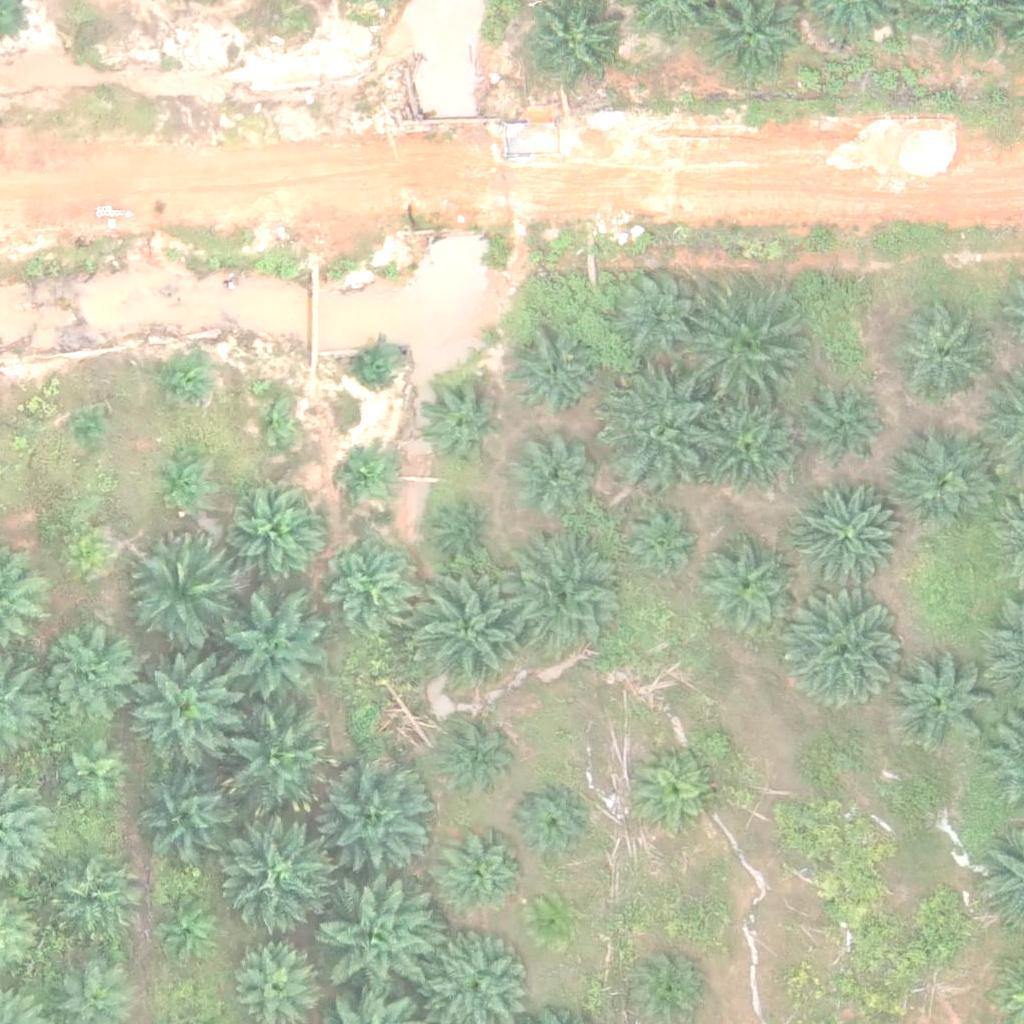Kelapa_Sawit: (783, 596, 896, 710), (509, 545, 622, 659), (414, 568, 527, 681), (317, 884, 430, 997), (213, 592, 326, 705), (226, 825, 339, 938), (122, 532, 235, 645), (127, 664, 240, 777), (315, 758, 427, 872), (794, 482, 906, 595), (691, 295, 803, 408), (601, 374, 713, 487), (224, 709, 336, 822), (889, 648, 989, 749), (890, 433, 990, 534), (697, 393, 797, 494), (603, 260, 703, 361), (133, 771, 233, 872), (894, 310, 994, 410), (698, 535, 798, 635), (229, 484, 329, 584), (42, 850, 142, 950), (44, 625, 144, 725), (509, 331, 596, 420), (803, 384, 890, 472), (616, 501, 703, 589), (509, 430, 596, 518), (325, 534, 412, 622), (419, 378, 506, 466), (629, 751, 716, 839), (446, 837, 521, 913), (513, 789, 588, 865), (437, 715, 512, 790), (56, 732, 131, 807), (156, 898, 219, 961), (341, 447, 391, 498), (524, 897, 574, 947), (348, 337, 398, 387), (439, 506, 489, 556), (251, 400, 301, 450), (159, 354, 209, 404), (154, 457, 204, 507), (68, 415, 106, 453), (58, 534, 95, 571)
